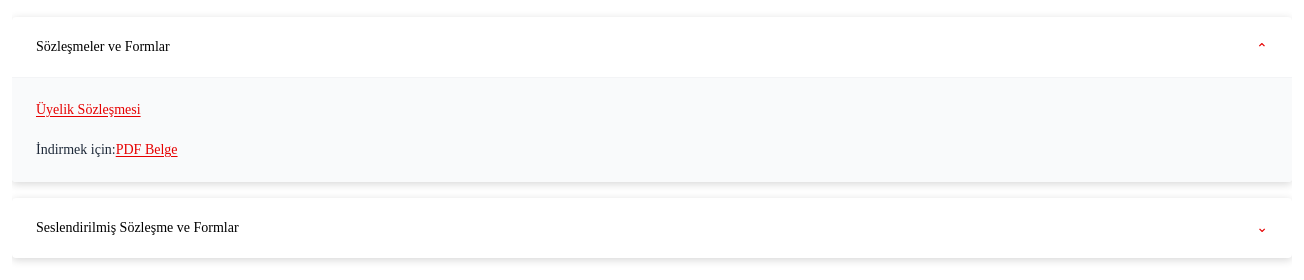
Test: SozlesmelerAccordion › closes the open group on a second click
Click the button "Sözleşmeler ve Formlar ⌄" at (103, 46), box left=12, top=17, right=1292, bottom=77
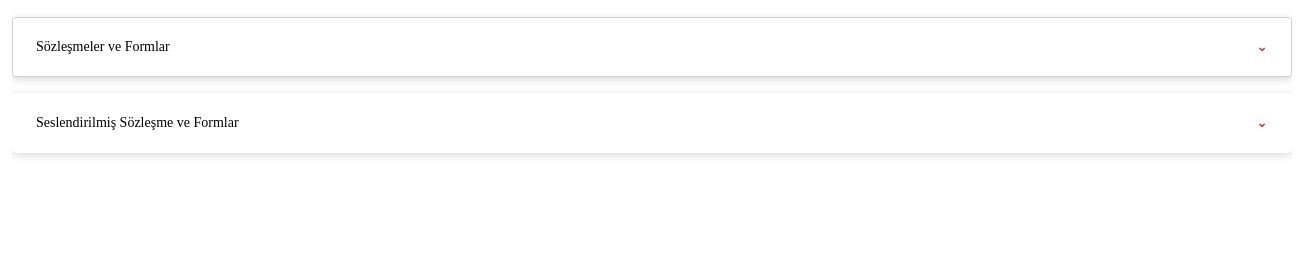
Expected: the link "Üyelik Sözleşmesi" is gone
